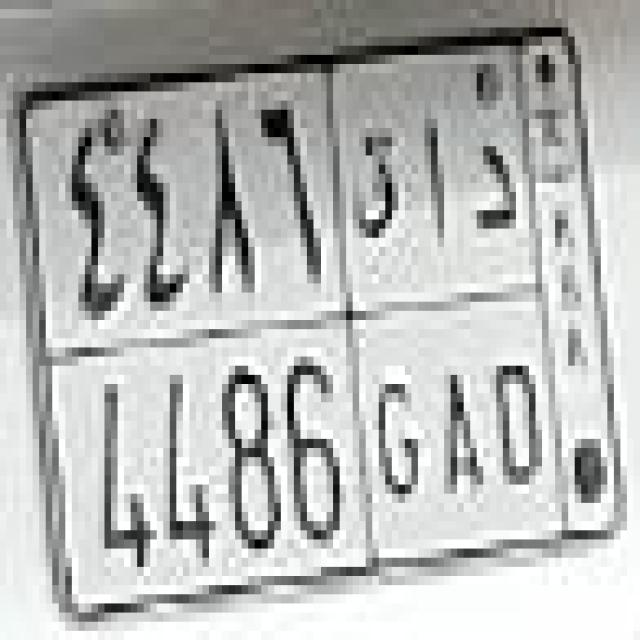license_plate: (6, 28, 637, 611), (69, 338, 555, 562)
